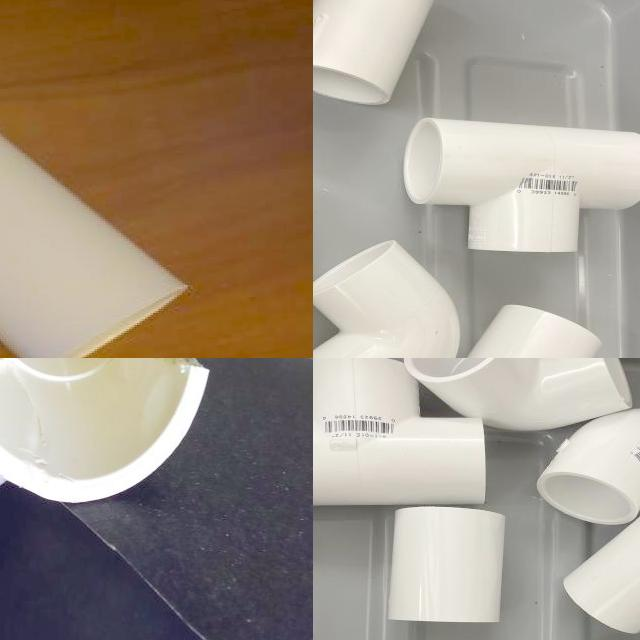Defective: (156, 358, 216, 369)
L Joint: (313, 242, 463, 358), (410, 358, 633, 432)
T Joint: (0, 134, 188, 358), (403, 118, 640, 256), (313, 358, 487, 510), (564, 517, 640, 637)
